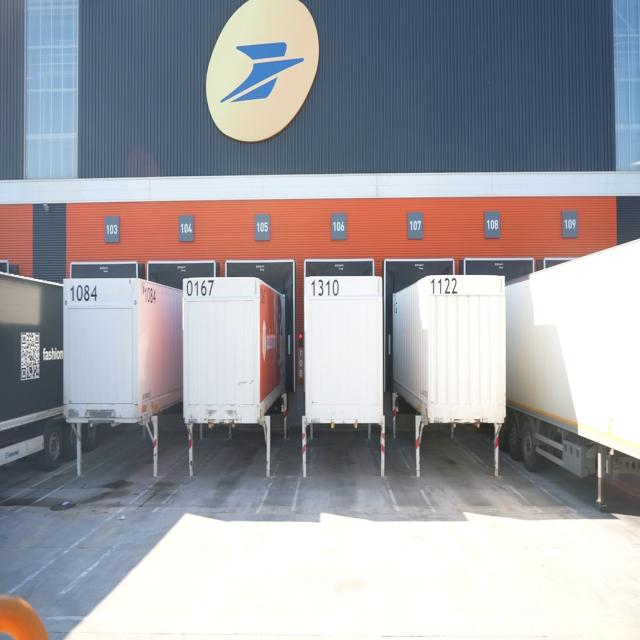Code: (67, 279, 101, 305), (308, 275, 341, 299), (426, 276, 459, 299), (185, 275, 214, 299)
